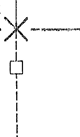Cable Termination Box: (4, 57, 27, 79)
